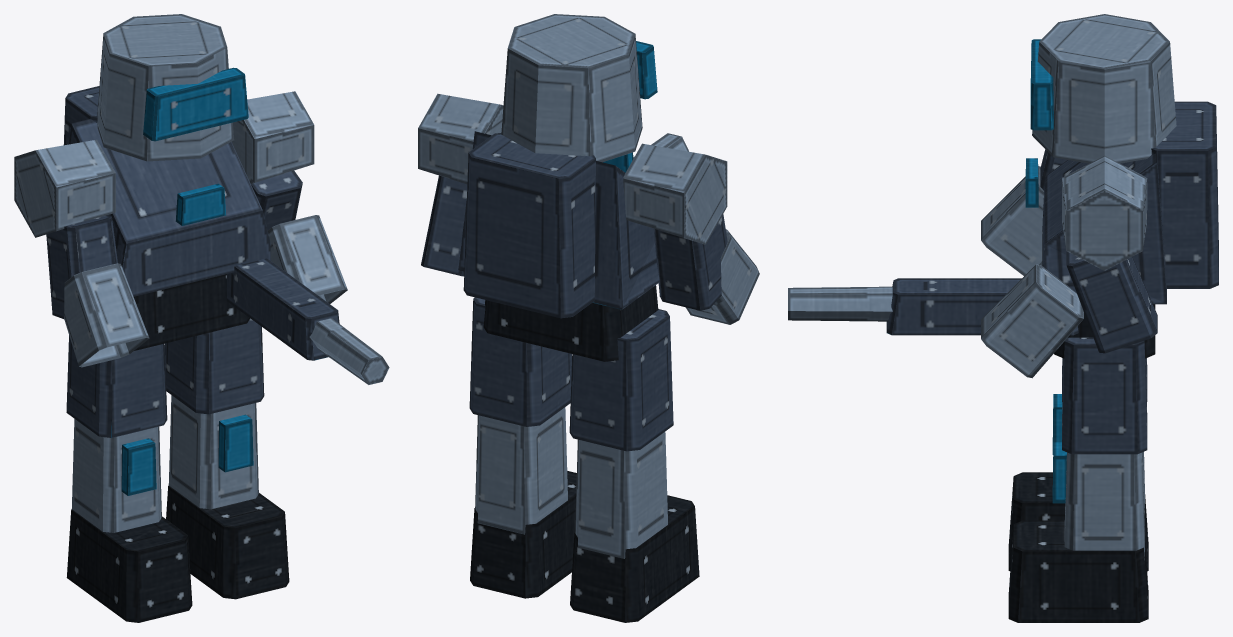
Rendered from unit-infantry.fbx.
3 views of the same model, side by side, from view 1: azimuth 30°, elevation 25°; view 2: azimuth 150°, elevation 25°; view 3: azimuth 270°, elevation 25° (orthographic). The views are drawn at different scales.
Parts seen in each view (by area): view 1: unit-infantry; view 2: unit-infantry; view 3: unit-infantry.
Boxes of the visible parts, bbox=[...] form: unit-infantry: bbox=[14, 14, 389, 622]; unit-infantry: bbox=[418, 14, 759, 622]; unit-infantry: bbox=[788, 14, 1218, 622].
Bounding box in the file's own units: 118 × 230 × 166.
Materials: 1 (1 with a texture image).
